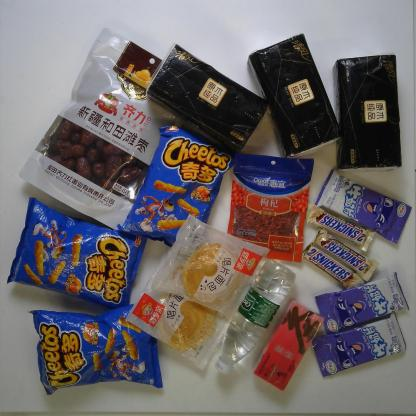Candy: (314, 168, 414, 245), (311, 311, 407, 381), (313, 270, 411, 338)
Chocolate: (311, 226, 380, 282), (304, 200, 377, 252), (300, 242, 365, 291)
Dessert: (150, 213, 272, 321), (124, 270, 232, 372)
Dried Food: (18, 25, 184, 233)
Dried Fruit: (226, 152, 314, 264)
Drink: (212, 257, 296, 376)
Instant Drink: (253, 296, 325, 392)
Puffed Food: (5, 196, 149, 308), (116, 123, 237, 246), (26, 308, 164, 398)
Tissue: (145, 43, 269, 150), (244, 32, 342, 158), (331, 52, 403, 174)
